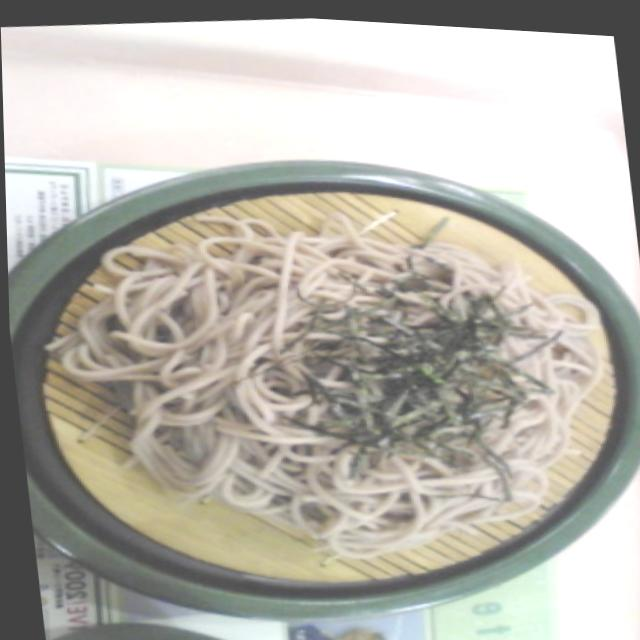面条主食: (2, 107, 640, 640)
